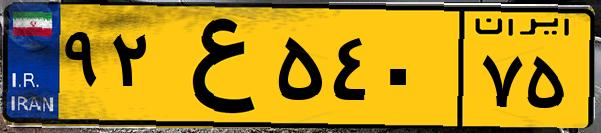0: (385, 28, 445, 110)
2: (110, 28, 158, 98)
4: (330, 28, 385, 110)
5: (270, 28, 330, 110), (525, 38, 570, 115)
7: (475, 38, 525, 113)
9: (57, 26, 110, 100)
ع: (158, 12, 270, 120)
